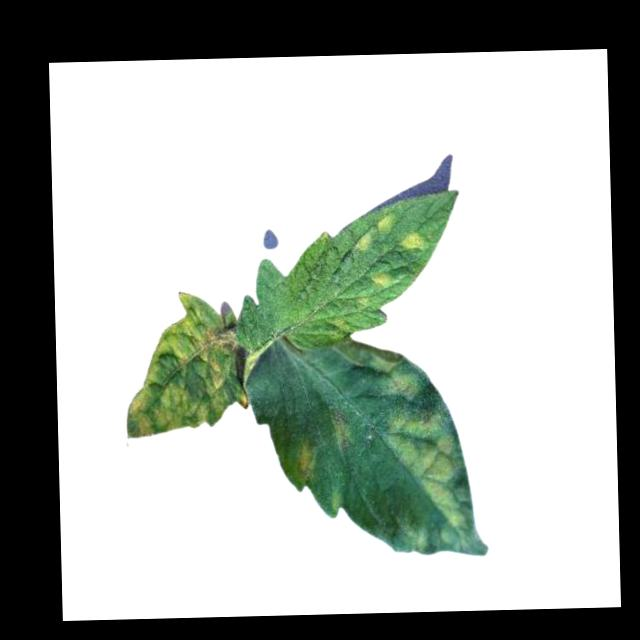Leaf_Mold: (120, 287, 248, 437), (365, 344, 461, 533), (353, 211, 395, 254), (296, 438, 315, 482), (401, 230, 423, 254), (367, 270, 390, 291)
